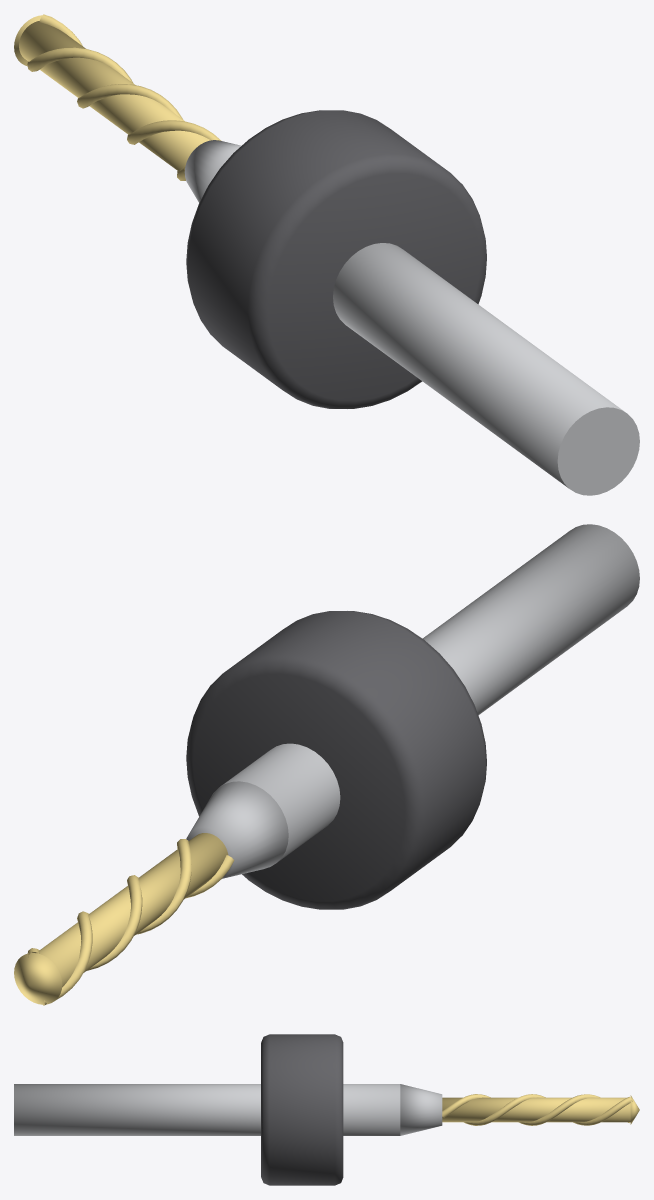
File: drill18_1p9.glb
3 renders of one model, top to bottom at view 1: azimuth 30°, elevation 25°; view 2: azimuth 150°, elevation 25°; view 3: azimuth 270°, elevation 25°, orthographic. The views are drawn at different scales.
Parts seen in each view (by area): view 1: Cylinder.002, Cylinder.001, Cylinder, flute, Cone, flute.001; view 2: Cylinder.002, Cylinder.001, Cylinder, Cone, flute, Cone.001, flute.001; view 3: Cylinder.001, Cylinder.002, Cylinder, Cone, flute.001, flute.
Boxes of the visible parts, x1=… form: Cylinder.002: x1=186, y1=110, x2=486, y2=408; Cylinder.001: x1=333, y1=243, x2=639, y2=495; Cylinder: x1=19, y1=21, x2=210, y2=173; flute: x1=27, y1=47, x2=221, y2=144; Cone: x1=184, y1=140, x2=241, y2=202; flute.001: x1=39, y1=14, x2=185, y2=180; Cylinder.002: x1=186, y1=611, x2=486, y2=909; Cylinder.001: x1=220, y1=524, x2=639, y2=862; Cylinder: x1=36, y1=833, x2=228, y2=987; Cone: x1=186, y1=781, x2=288, y2=878; flute: x1=43, y1=839, x2=191, y2=1005; Cone.001: x1=14, y1=953, x2=62, y2=1004; flute.001: x1=27, y1=855, x2=234, y2=970; Cylinder.001: x1=14, y1=1084, x2=400, y2=1135; Cylinder.002: x1=261, y1=1034, x2=343, y2=1185; Cylinder: x1=442, y1=1097, x2=630, y2=1122; Cone: x1=400, y1=1084, x2=442, y2=1135; flute.001: x1=464, y1=1094, x2=632, y2=1125; flute: x1=442, y1=1094, x2=630, y2=1125.
Size of the model in its own units: 0.00917 by 0.00917 by 0.038.
